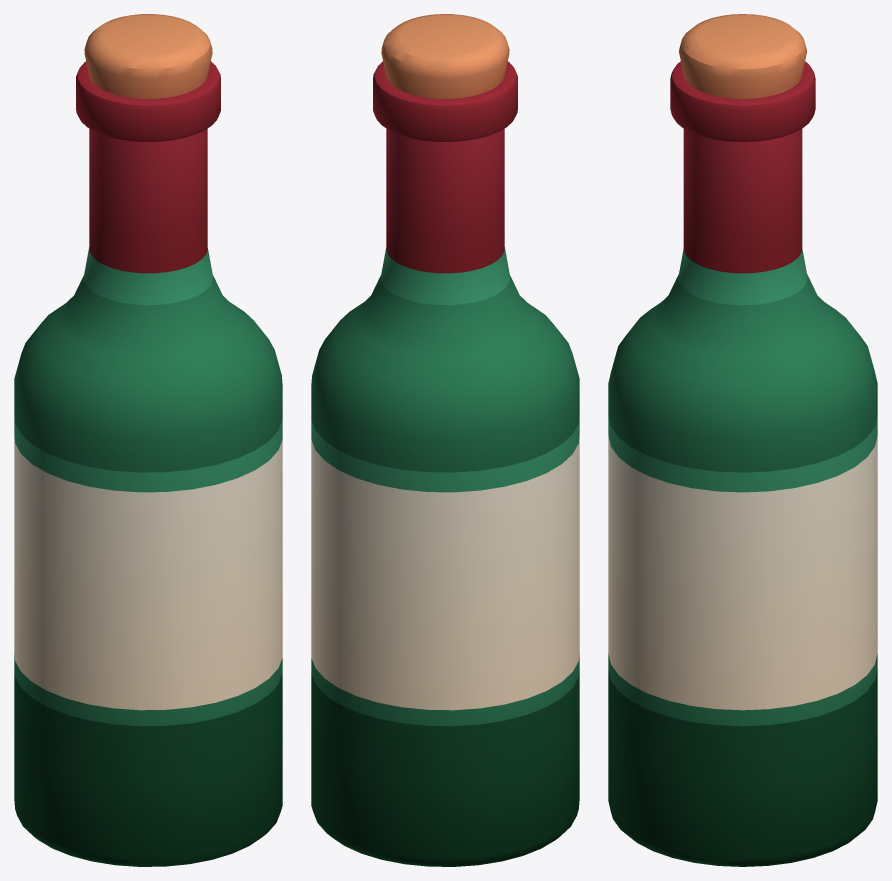
The model's file is Wine.fbx.
3 renders of one model, left to right at view 1: azimuth 30°, elevation 25°; view 2: azimuth 150°, elevation 25°; view 3: azimuth 270°, elevation 25°, orthographic.
Parts seen in each view (by area): view 1: Wine; view 2: Wine; view 3: Wine.
Boxes of the visible parts, left/top/right/bottom form: Wine: left=14, top=14, right=282, bottom=866; Wine: left=311, top=14, right=579, bottom=866; Wine: left=608, top=14, right=877, bottom=866.
Bounding box in the file's own units: 7.25 × 23.21 × 7.25.
